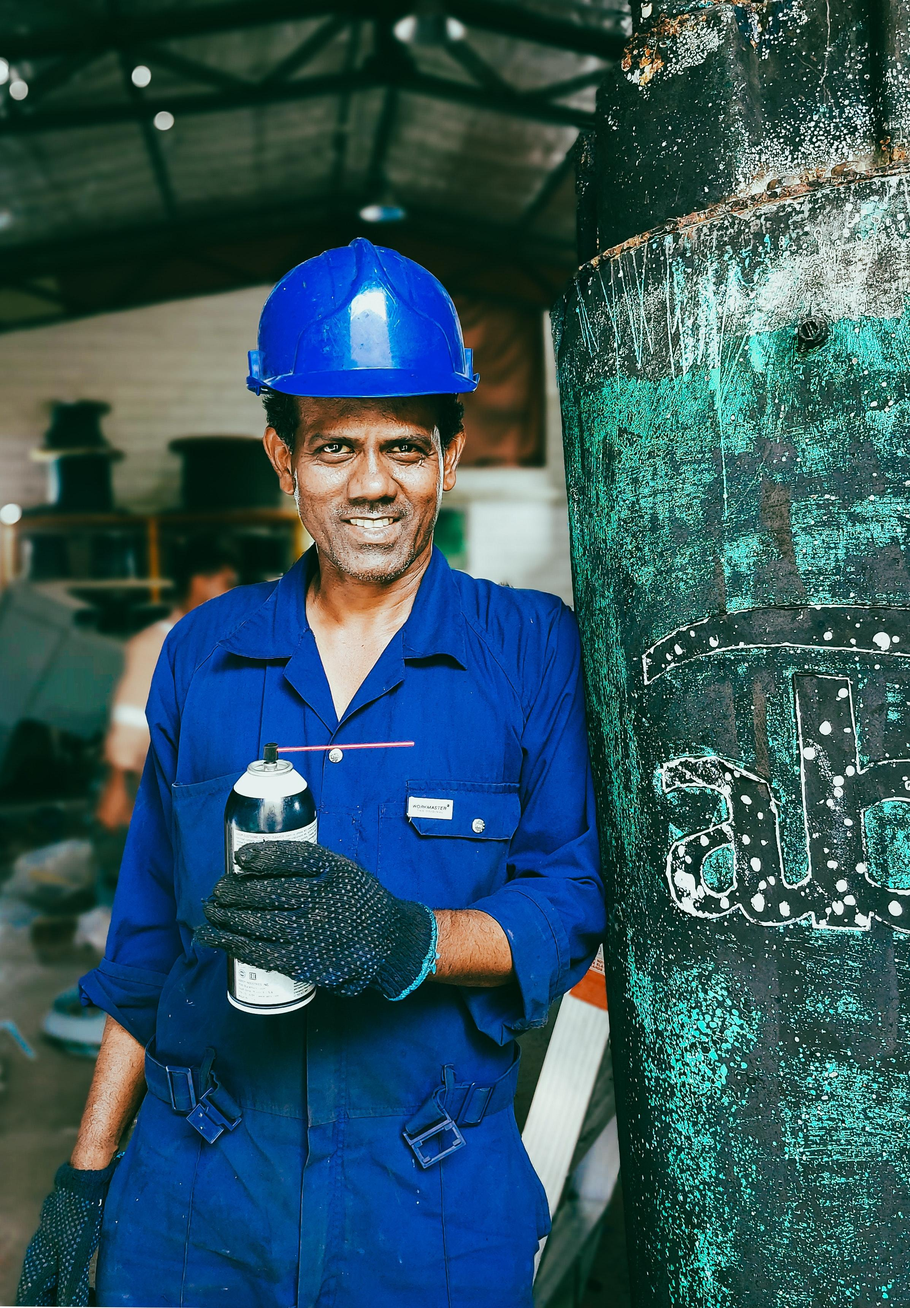Helmet: (217, 247, 525, 409)
